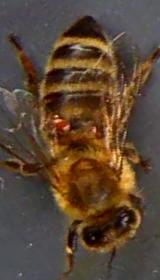varroa_mite: (46, 111, 74, 135)
